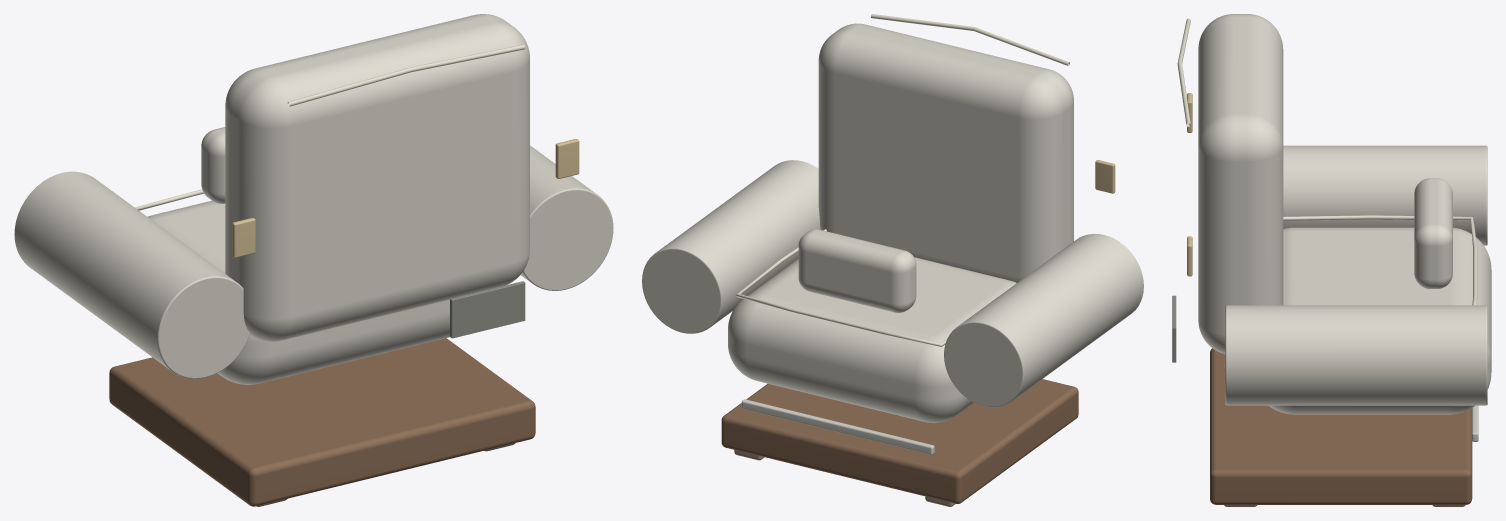
File: room_l2_img2_carekeeper_armchair.glb
3 renders of one model, left to right at view 1: azimuth 30°, elevation 25°; view 2: azimuth 150°, elevation 25°; view 3: azimuth 270°, elevation 25°, orthographic. The views are drawn at different scales.
Parts seen in each view (by area): view 1: armchair_one_piece_tall_back, armchair_recessed_walnut_shadow_plinth, armchair_left_rolled_arm, armchair_single_deep_seat_cushion, armchair_right_rolled_arm, armchair_rear_hidden_access_line, armchair_integrated_low_lumbar_pad, armchair_back_top_soft_welt, armchair_small_rear_brass_pin_+0.4, armchair_small_rear_brass_pin_-0.4; view 2: armchair_one_piece_tall_back, armchair_single_deep_seat_cushion, armchair_recessed_walnut_shadow_plinth, armchair_left_rolled_arm, armchair_right_rolled_arm, armchair_integrated_low_lumbar_pad, armchair_thin_smoked_chrome_front_shadow_line, armchair_seat_soft_piped_edge, armchair_back_top_soft_welt, armchair_small_rear_brass_pin_-0.4; view 3: armchair_right_rolled_arm, armchair_one_piece_tall_back, armchair_recessed_walnut_shadow_plinth, armchair_single_deep_seat_cushion, armchair_left_rolled_arm, armchair_integrated_low_lumbar_pad, armchair_seat_soft_piped_edge, armchair_back_top_soft_welt.
Boxes of the visible parts, <box> form: armchair_one_piece_tall_back: <box>225,14,529,341</box>; armchair_recessed_walnut_shadow_plinth: <box>109,338,535,506</box>; armchair_left_rolled_arm: <box>14,171,250,378</box>; armchair_single_deep_seat_cushion: <box>147,200,449,384</box>; armchair_right_rolled_arm: <box>520,145,613,290</box>; armchair_rear_hidden_access_line: <box>450,281,525,338</box>; armchair_integrated_low_lumbar_pad: <box>201,127,225,203</box>; armchair_back_top_soft_welt: <box>287,44,525,106</box>; armchair_small_rear_brass_pin_+0.4: <box>555,139,579,178</box>; armchair_small_rear_brass_pin_-0.4: <box>232,217,255,257</box>; armchair_one_piece_tall_back: <box>818,23,1073,282</box>; armchair_single_deep_seat_cushion: <box>728,257,1016,422</box>; armchair_recessed_walnut_shadow_plinth: <box>721,379,1078,503</box>; armchair_left_rolled_arm: <box>944,234,1143,407</box>; armchair_right_rolled_arm: <box>642,160,820,333</box>; armchair_integrated_low_lumbar_pad: <box>798,229,916,312</box>; armchair_thin_smoked_chrome_front_shadow_line: <box>741,399,934,454</box>; armchair_seat_soft_piped_edge: <box>736,229,946,346</box>; armchair_back_top_soft_welt: <box>871,14,1069,65</box>; armchair_small_rear_brass_pin_-0.4: <box>1095,160,1115,193</box>; armchair_right_rolled_arm: <box>1225,305,1487,405</box>; armchair_one_piece_tall_back: <box>1198,14,1283,353</box>; armchair_recessed_walnut_shadow_plinth: <box>1210,348,1472,504</box>; armchair_single_deep_seat_cushion: <box>1269,227,1491,414</box>; armchair_left_rolled_arm: <box>1283,145,1487,245</box>; armchair_integrated_low_lumbar_pad: <box>1414,178,1452,288</box>; armchair_seat_soft_piped_edge: <box>1283,215,1477,305</box>; armchair_back_top_soft_welt: <box>1177,18,1190,126</box>.
Bounding box in the file's own units: 1.24 × 1.11 × 0.827.
